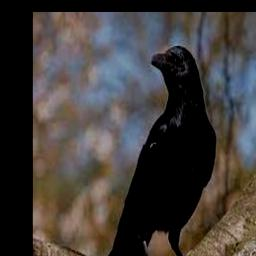Crow: (105, 46, 216, 256)
